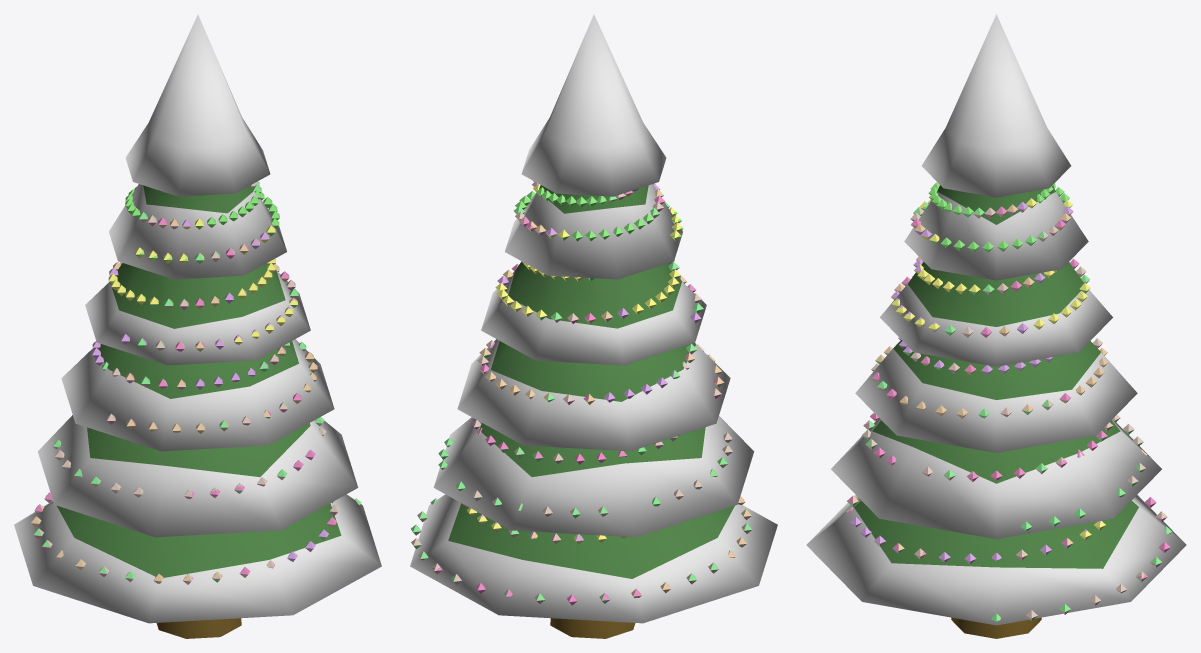
Rendered from TreeLights.fbx.
3 renders of one model, left to right at view 1: azimuth 30°, elevation 25°; view 2: azimuth 150°, elevation 25°; view 3: azimuth 270°, elevation 25°, orthographic.
Visible parts, largest first — view 1: PineTreeWithLight, SpiralLights.003, SpiralLights.004, SpiralLights.002, SpiralLights, SpiralLights.001; view 2: PineTreeWithLight, SpiralLights.004, SpiralLights.003, SpiralLights, SpiralLights.001, SpiralLights.002; view 3: PineTreeWithLight, SpiralLights.004, SpiralLights.003, SpiralLights.002, SpiralLights, SpiralLights.001.
Boxes of the visible parts, x1,y1,x2,y2 form: PineTreeWithLight: (14,14,381,638); SpiralLights.003: (108,259,298,351); SpiralLights.004: (125,181,279,264); SpiralLights.002: (92,341,317,433); SpiralLights: (31,492,361,584); SpiralLights.001: (53,417,326,499); PineTreeWithLight: (410,14,777,638); SpiralLights.004: (514,181,683,241); SpiralLights.003: (495,260,703,323); SpiralLights: (411,496,752,605); SpiralLights.001: (438,418,732,518); SpiralLights.002: (477,340,724,404); PineTreeWithLight: (806,14,1186,638); SpiralLights.004: (910,182,1073,252); SpiralLights.003: (891,256,1090,337); SpiralLights.002: (871,337,1108,418); SpiralLights: (846,496,1172,621); SpiralLights.001: (862,413,1147,531).
Size of the model in its own units: 45.32 by 45.32 by 79.61.
